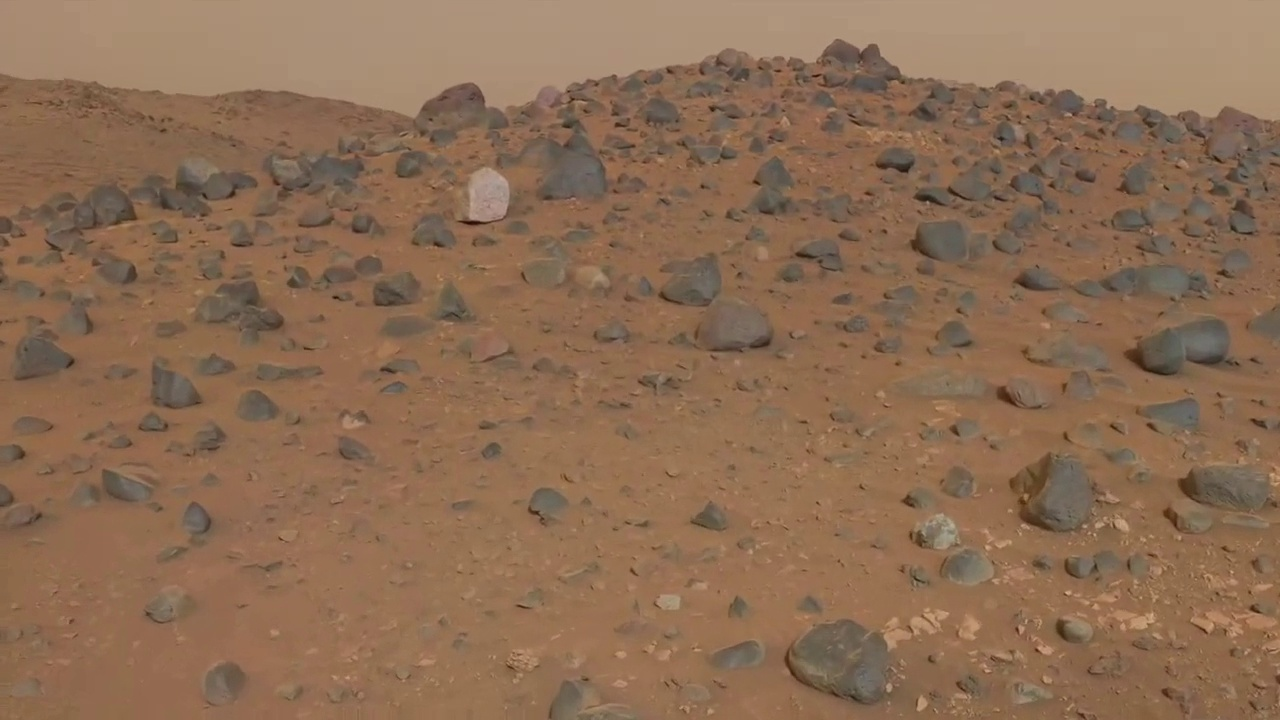rock: (1009, 453, 1104, 533), (1177, 470, 1280, 511), (790, 242, 844, 279), (909, 515, 956, 548), (1012, 270, 1059, 291), (1216, 249, 1248, 279), (528, 489, 564, 515), (186, 502, 213, 535), (1135, 236, 1175, 256), (691, 505, 721, 531), (0, 216, 25, 247), (1064, 559, 1099, 581)
